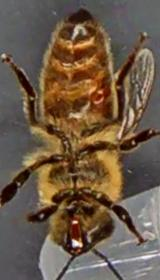varroa_mite: (80, 76, 112, 118)
